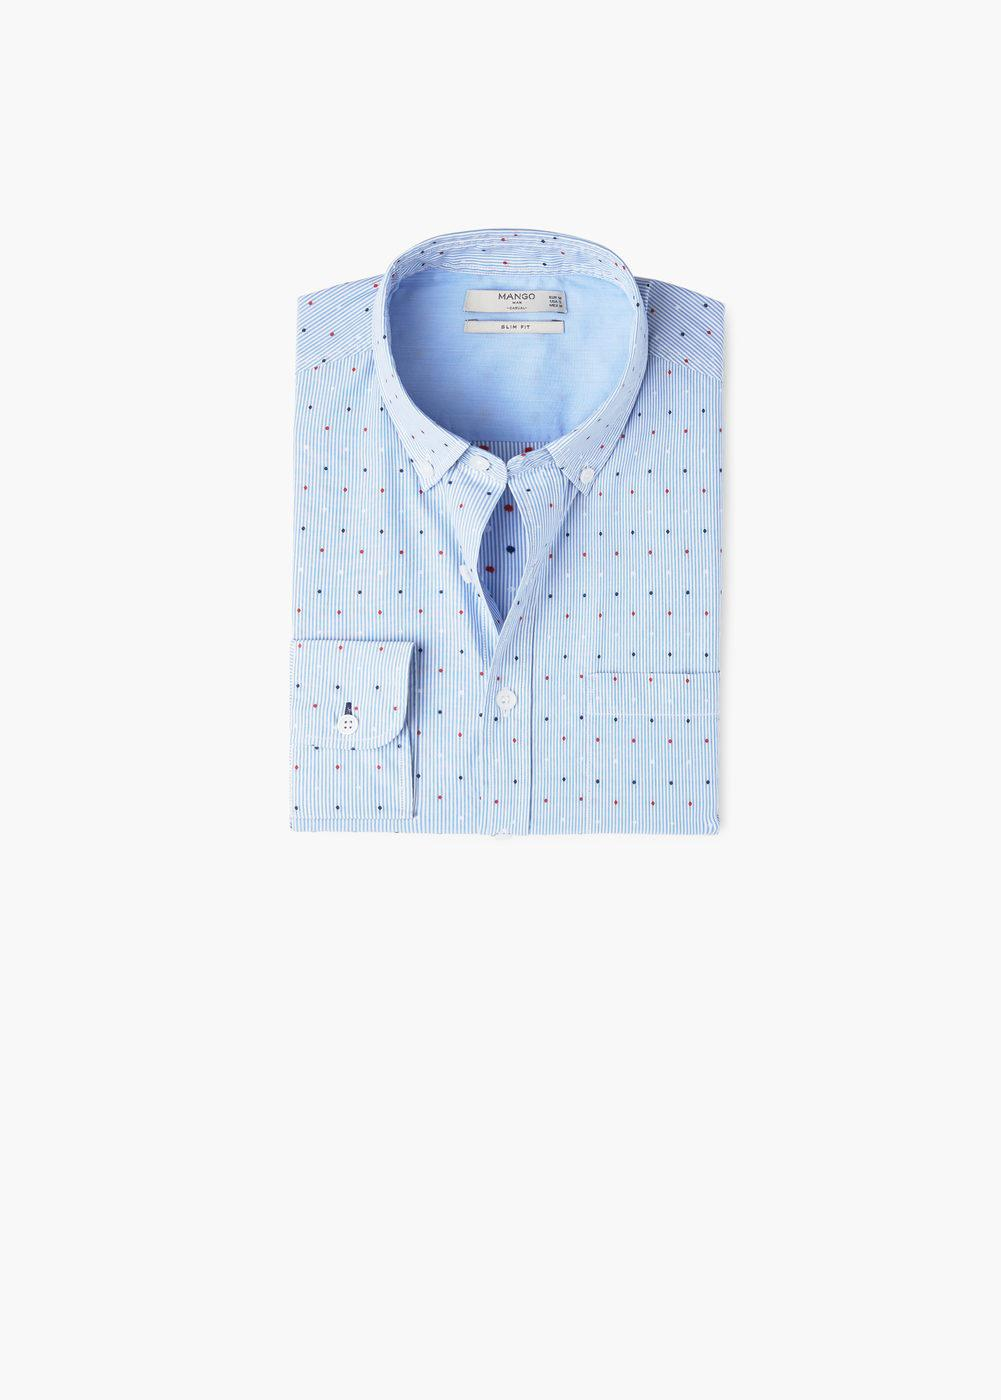teeshirt: (225, 225, 738, 861)
